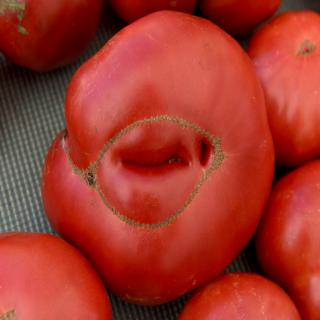tomato: (54, 2, 257, 299), (245, 10, 320, 166), (0, 231, 113, 320), (258, 160, 320, 320), (0, 0, 99, 71), (178, 270, 300, 320), (201, 0, 283, 34), (112, 0, 195, 24)
